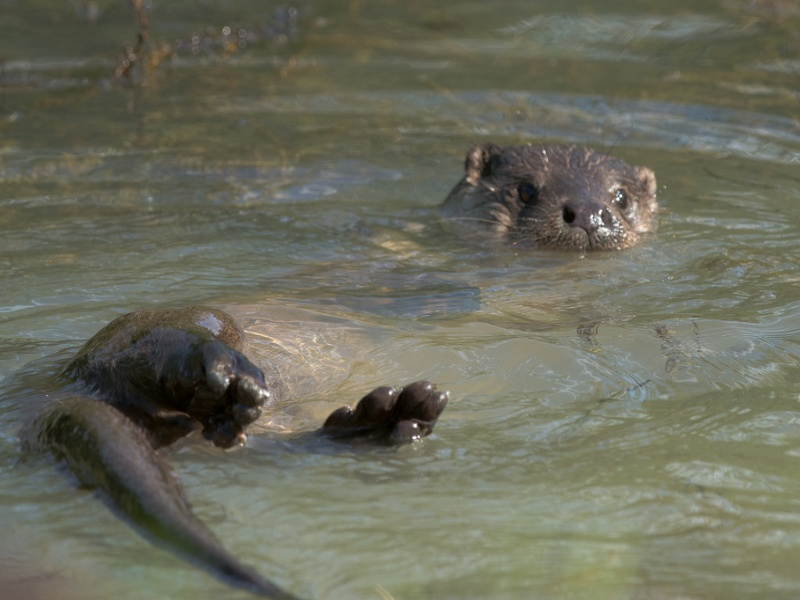minkish: (20, 137, 660, 592)
